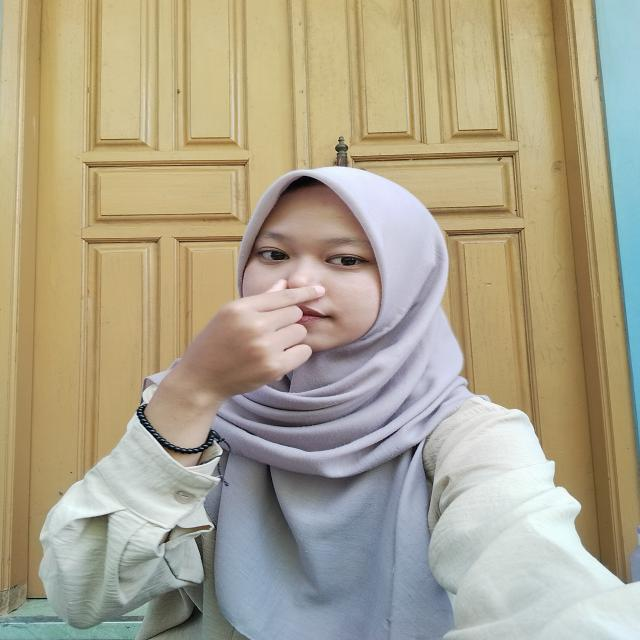bau: (174, 266, 326, 398)
